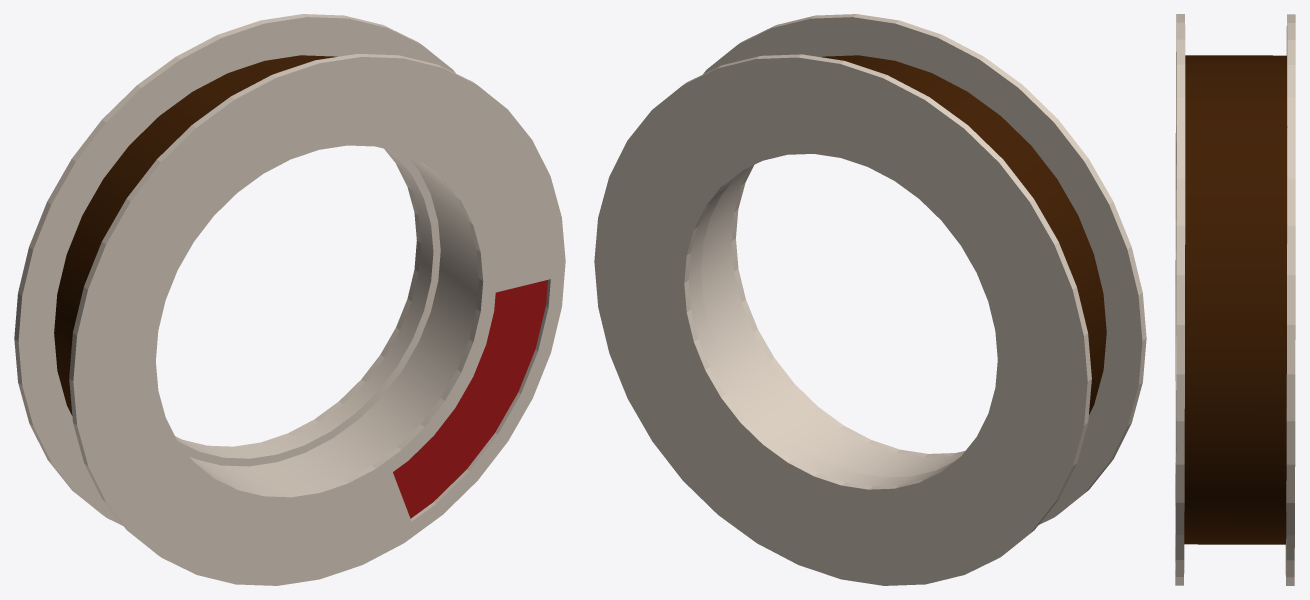
File: dectape_reel.FBX
3 renders of one model, left to right at view 1: azimuth 30°, elevation 25°; view 2: azimuth 150°, elevation 25°; view 3: azimuth 270°, elevation 25°, orthographic.
Parts seen in each view (by area): view 1: Cylinder469; view 2: Cylinder469; view 3: Cylinder469.
Part boxes in pixels (x1,y1,x2,y2): Cylinder469: (14,14,565,585); Cylinder469: (594,14,1146,585); Cylinder469: (1175,14,1295,585).
Size of the model in its own units: 10.38 by 2.18 by 10.39.
